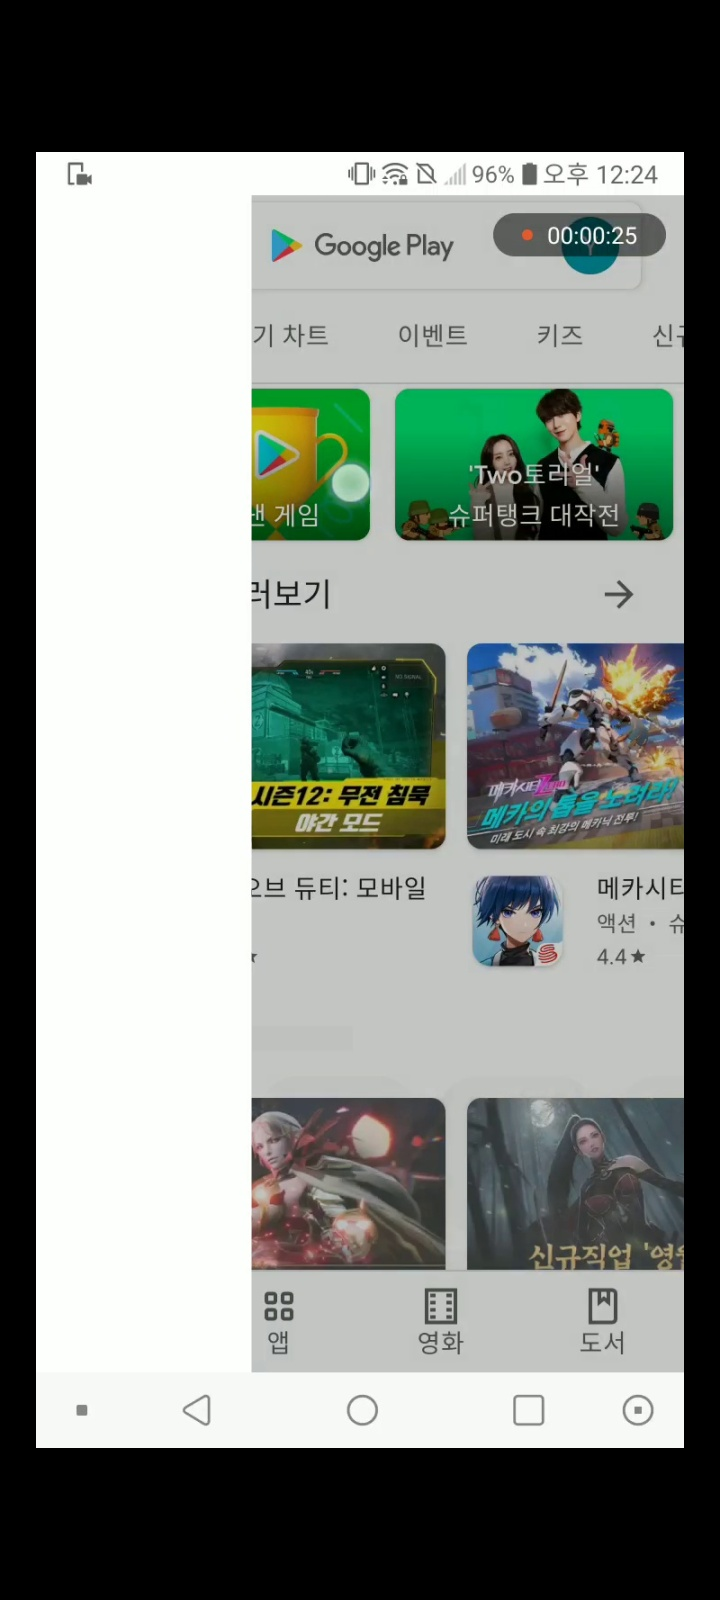Cursor: (329, 460, 374, 505)
